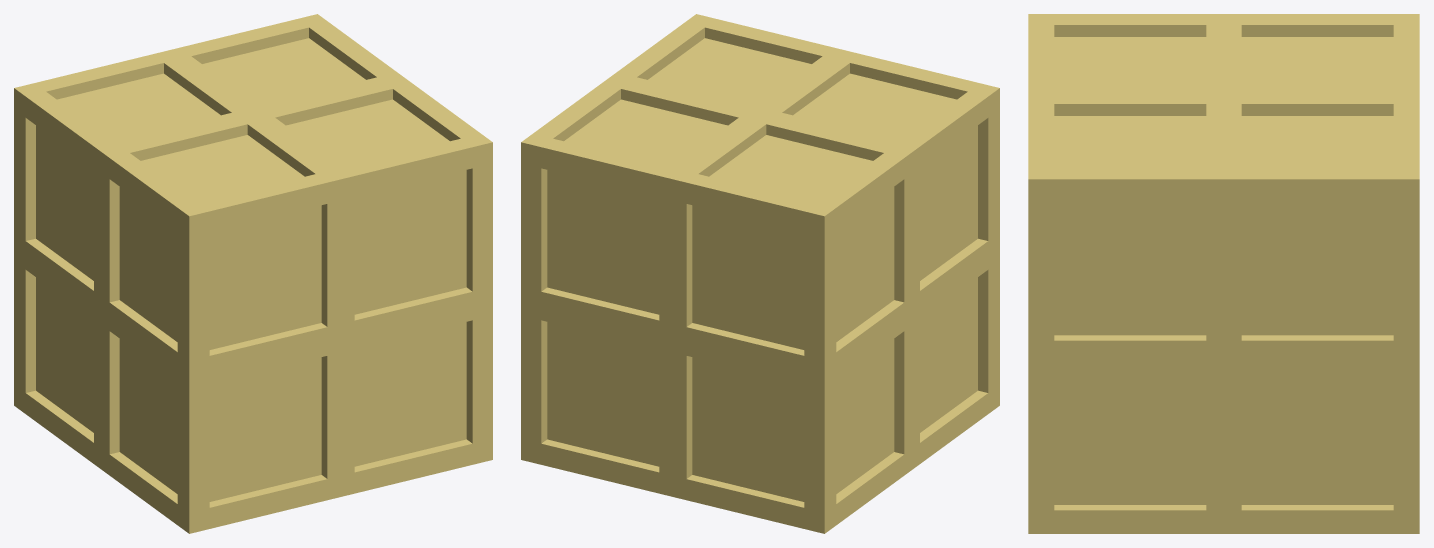
Rendered from Crate.fbx.
The picture shows the model from 3 angles, left to right: view 1: azimuth 30°, elevation 25°; view 2: azimuth 150°, elevation 25°; view 3: azimuth 270°, elevation 25°; orthographic projection. The views are drawn at different scales.
Parts seen in each view (by area): view 1: Crate_Base; view 2: Crate_Base; view 3: Crate_Base.
Boxes of the visible parts, x1=… form: Crate_Base: x1=14, y1=14, x2=492, y2=533; Crate_Base: x1=521, y1=14, x2=999, y2=533; Crate_Base: x1=1028, y1=14, x2=1419, y2=533.
Size of the model in its own units: 450 by 450 by 450.
